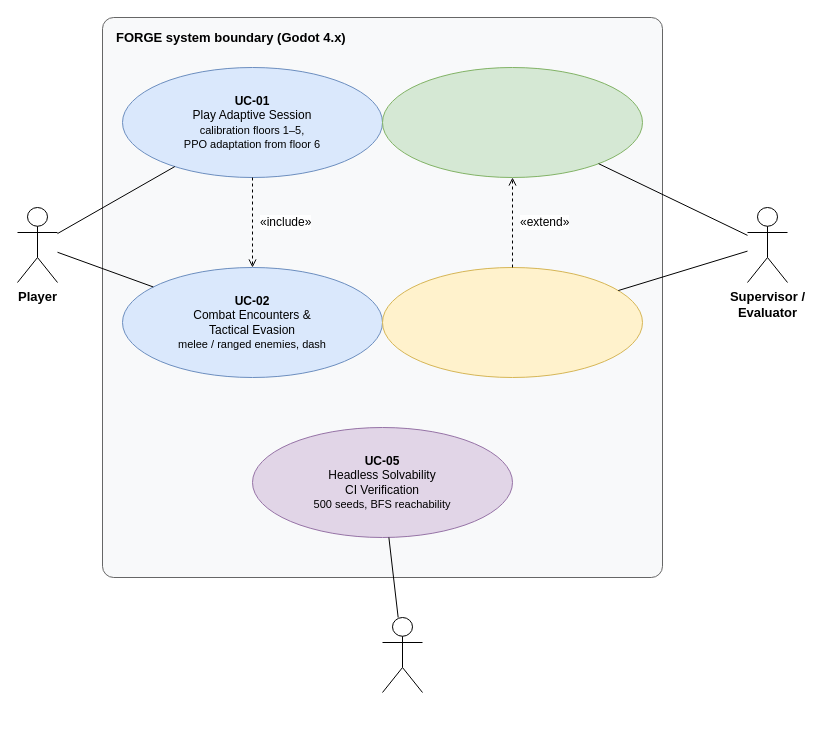
Image size: 822x748. Some labels were removed from this diagram. The shapes that lost their labels are listed below. From the top down, each one's centre as x and y in pixels, then its label:
At point (512, 122): "UC-03 Real-Time Telemetry & Parameter Inspection Defense Overlay (Tab)".
At point (512, 322): "UC-04 Adjust Difficulty via Defense Panel presets, sliders, regenerate".
At point (402, 654): "Developer (headless CLI run)".
